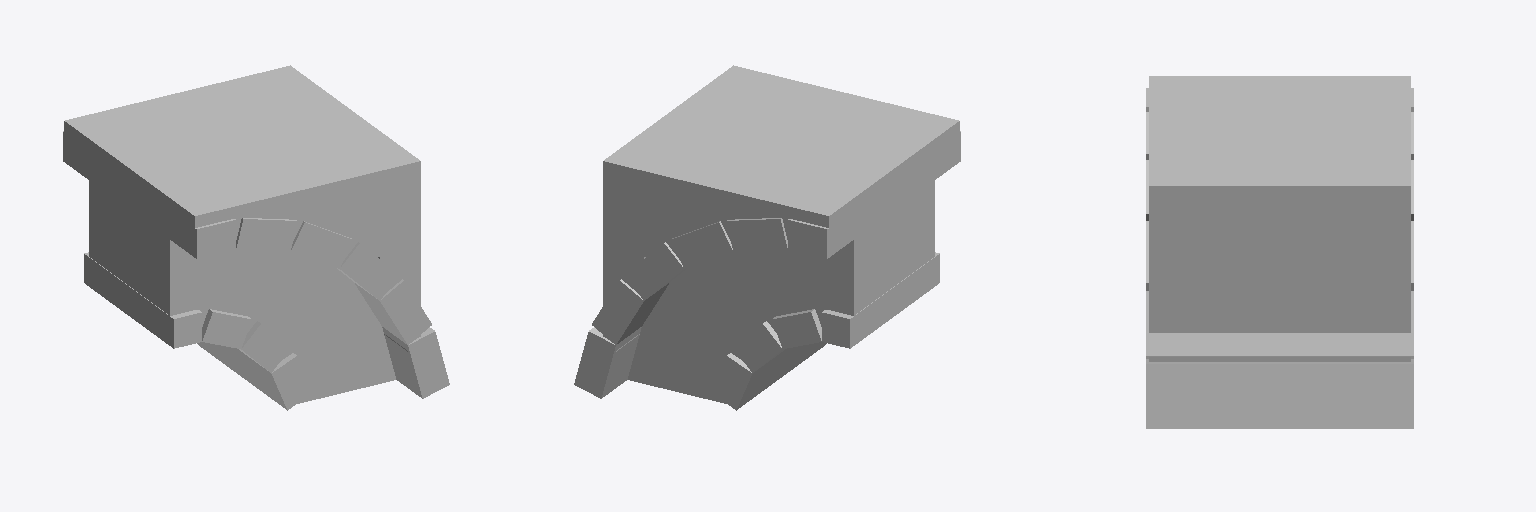
The model's file is narrow_sandstone_single_arch_tall.obj.
3 views of the same model, side by side, from view 1: azimuth 30°, elevation 25°; view 2: azimuth 150°, elevation 25°; view 3: azimuth 270°, elevation 25° (orthographic).
Parts seen in each view (by area): view 1: cube; view 2: cube; view 3: cube.
Boxes of the visible parts, x1,y1,x2,y2 form: cube: [63, 65, 449, 410]; cube: [574, 65, 960, 410]; cube: [1146, 76, 1413, 428].
Size of the model in its own units: 1.12 by 1 by 1.02.